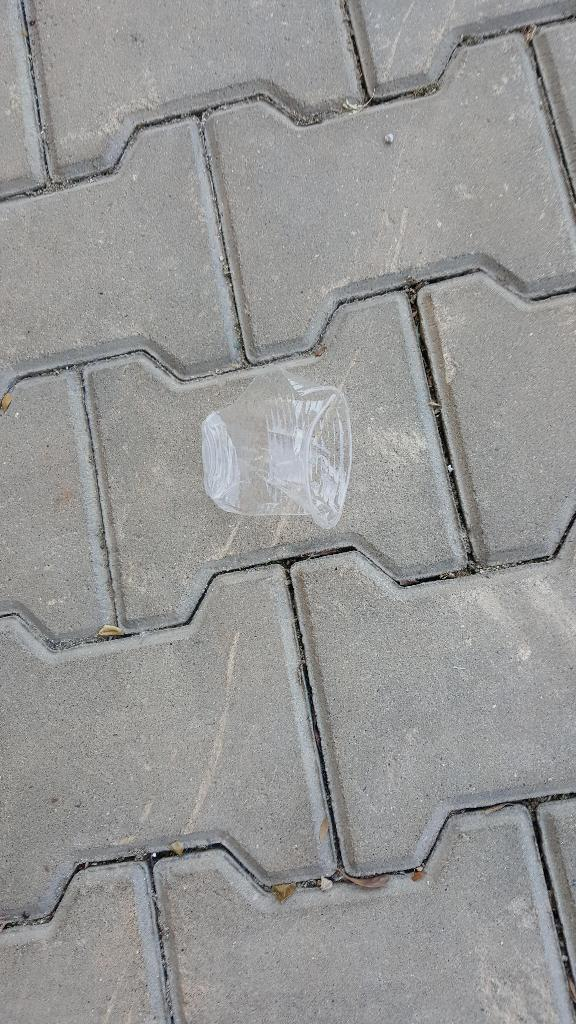garbage: (197, 342, 367, 560), (202, 369, 352, 529)
